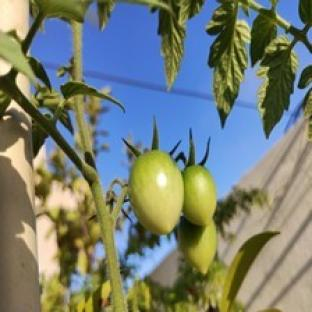Tomato: (130, 151, 183, 235), (179, 218, 217, 274), (183, 165, 217, 225)
